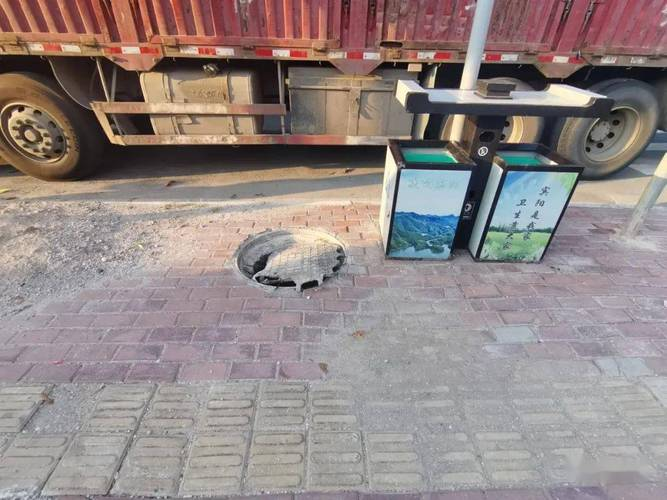broke: (220, 212, 366, 315)
